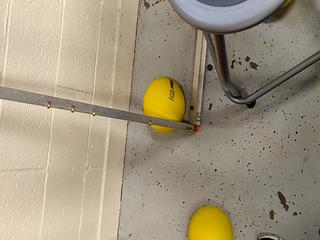power_cell: (139, 69, 191, 136), (188, 205, 237, 240)
